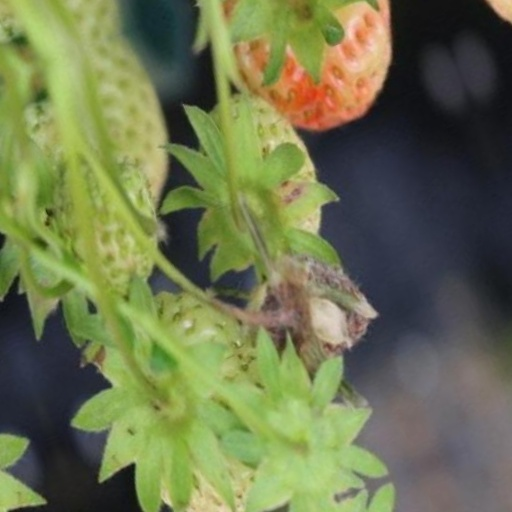Gray Mold: (202, 270, 352, 395)
